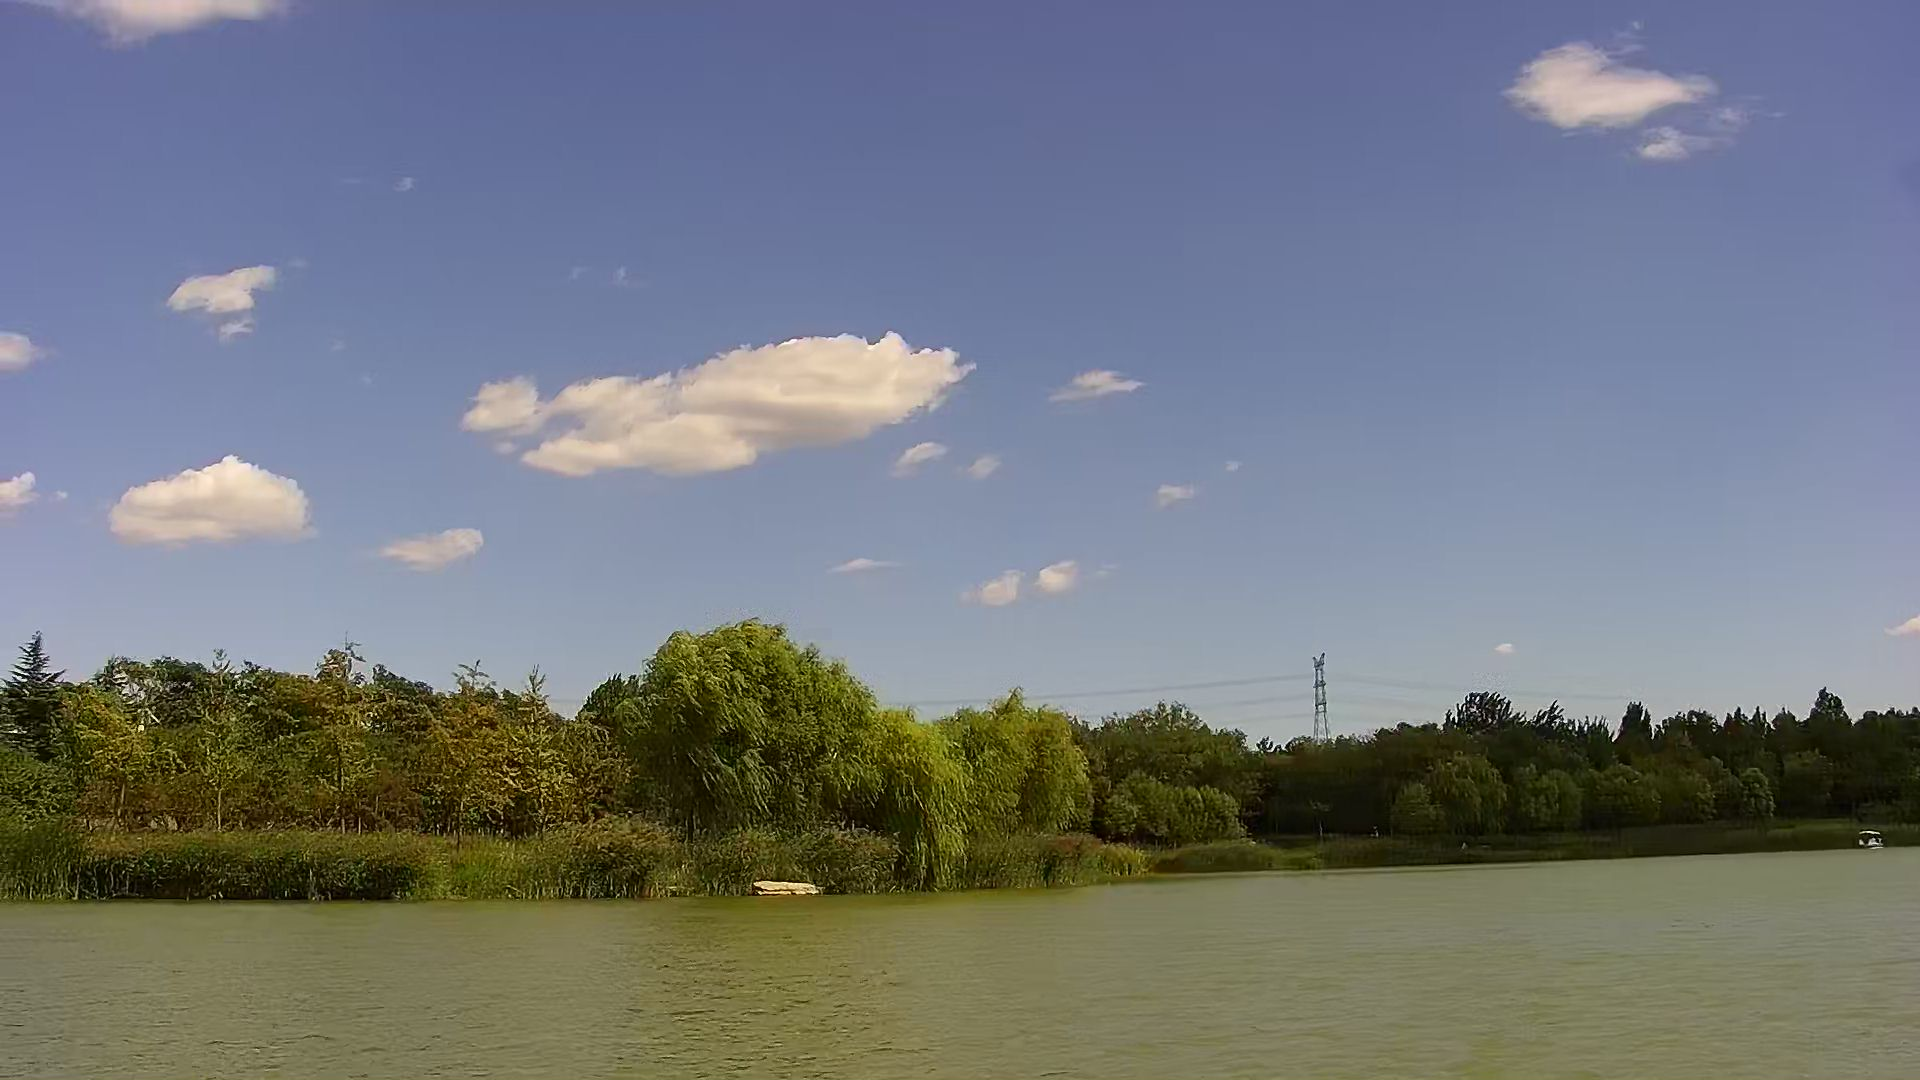boat: (1854, 829, 1890, 851)
